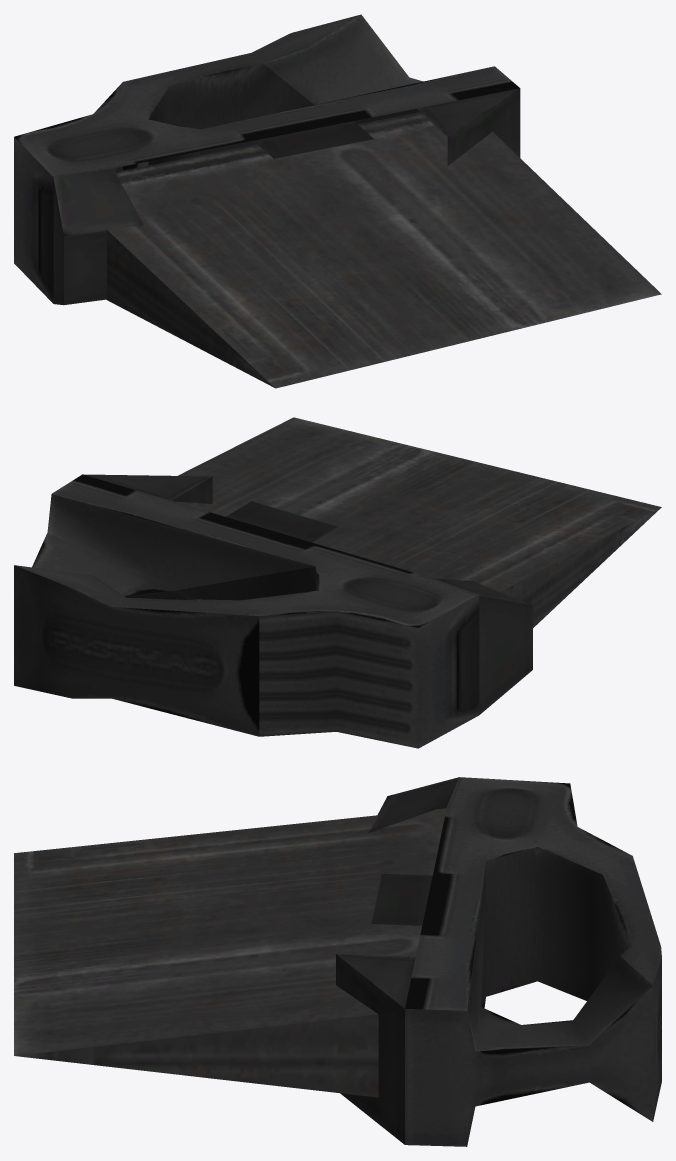
File: t6_attach_fastmag_xpr50_world_LOD2.obj
3 renders of one model, top to bottom at view 1: azimuth 30°, elevation 25°; view 2: azimuth 150°, elevation 25°; view 3: azimuth 270°, elevation 25°, orthographic. The views are drawn at different scales.
Parts seen in each view (by area): view 1: mtl_t6_wpn_sniper_xpr50, mtl_t6_attach_sniper_fastmag; view 2: mtl_t6_attach_sniper_fastmag, mtl_t6_wpn_sniper_xpr50; view 3: mtl_t6_wpn_sniper_xpr50, mtl_t6_attach_sniper_fastmag.
Boxes of the visible parts, x1,y1,x2,y2 form: mtl_t6_wpn_sniper_xpr50: [106, 112, 661, 388]; mtl_t6_attach_sniper_fastmag: [14, 14, 520, 305]; mtl_t6_attach_sniper_fastmag: [14, 474, 532, 748]; mtl_t6_wpn_sniper_xpr50: [175, 417, 661, 627]; mtl_t6_wpn_sniper_xpr50: [14, 808, 446, 1097]; mtl_t6_attach_sniper_fastmag: [336, 777, 661, 1146].
Bounding box in the file's own units: 13.91 × 3.59 × 15.5.
